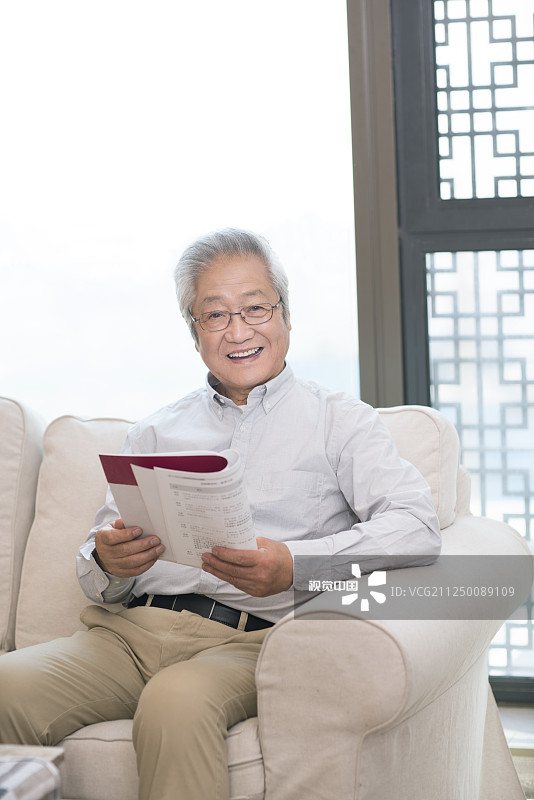no-phone: (193, 523, 303, 604), (83, 509, 174, 582)
